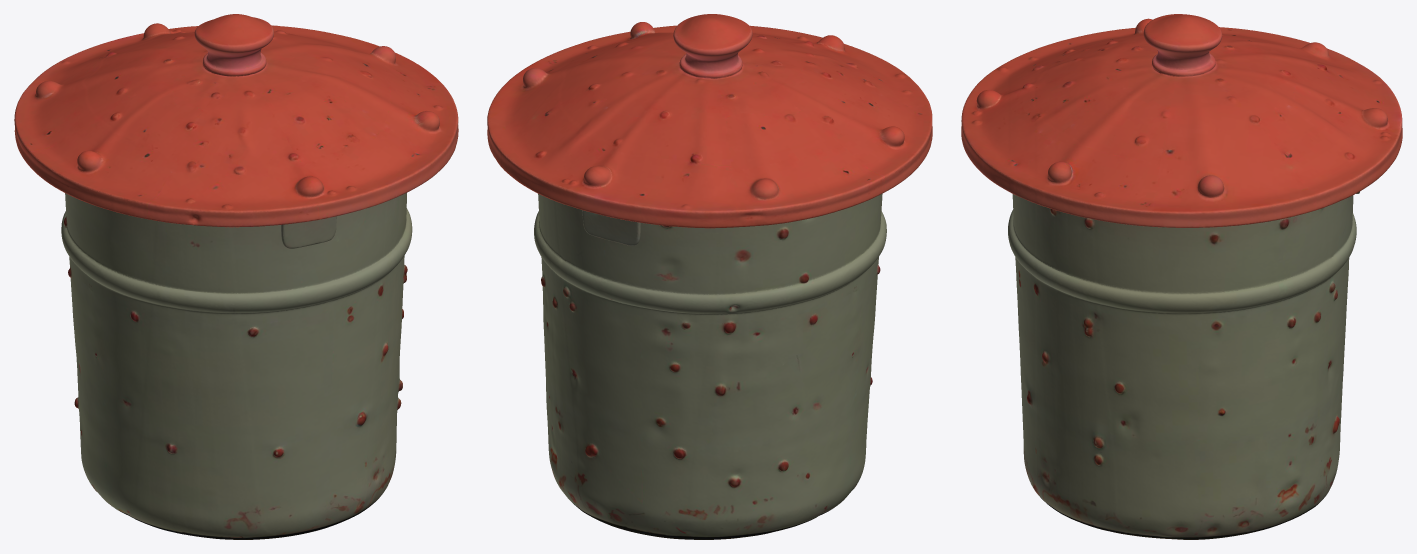
File: detailed_realistic_model_sortinghat_02.glb
3 views of the same model, side by side, from view 1: azimuth 30°, elevation 25°; view 2: azimuth 150°, elevation 25°; view 3: azimuth 270°, elevation 25° (orthographic).
Visible parts, largest first — view 1: tripo_node_9e42975b-7848-4cf1-8ca9-7b4cbc06bbc0; view 2: tripo_node_9e42975b-7848-4cf1-8ca9-7b4cbc06bbc0; view 3: tripo_node_9e42975b-7848-4cf1-8ca9-7b4cbc06bbc0.
Boxes of the visible parts, x1=… form: tripo_node_9e42975b-7848-4cf1-8ca9-7b4cbc06bbc0: x1=14, y1=14, x2=458, y2=539; tripo_node_9e42975b-7848-4cf1-8ca9-7b4cbc06bbc0: x1=487, y1=14, x2=932, y2=539; tripo_node_9e42975b-7848-4cf1-8ca9-7b4cbc06bbc0: x1=961, y1=14, x2=1402, y2=539.
Size of the model in its own units: 0.8616 by 1 by 0.8602.
1 material, 1 textured.
